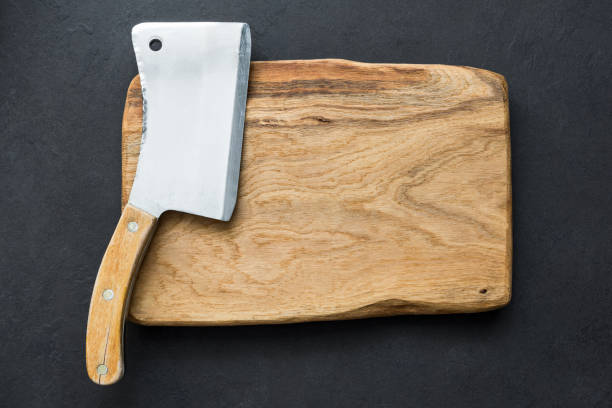knife: (83, 19, 254, 388)
